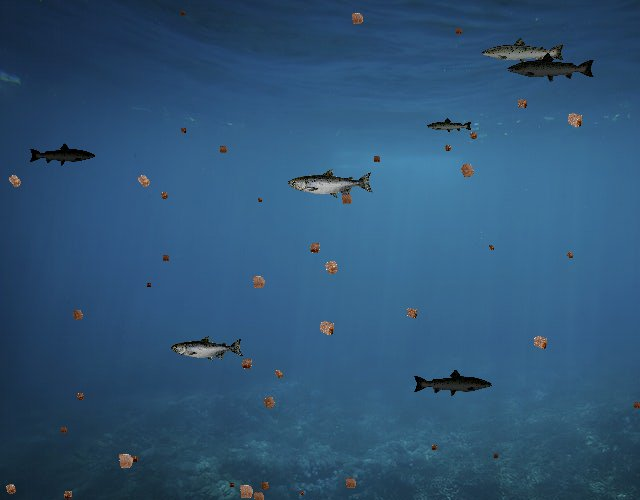Fish: (506, 52, 596, 84), (480, 36, 566, 67), (288, 168, 374, 199), (412, 369, 493, 398), (172, 336, 245, 362), (29, 143, 97, 167), (427, 118, 474, 135)
Pellet: (110, 446, 140, 476), (245, 269, 272, 296), (345, 6, 370, 31), (235, 353, 258, 375), (0, 478, 22, 500), (369, 152, 384, 166), (177, 124, 190, 137)
